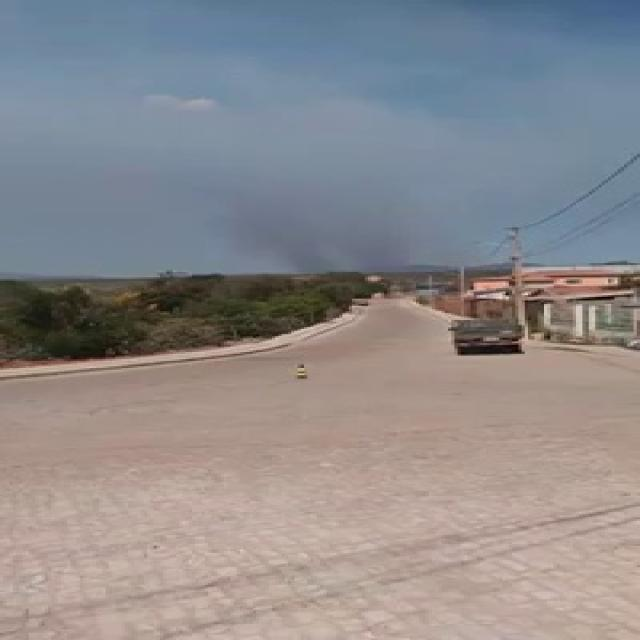Smoke: (240, 190, 477, 294)
